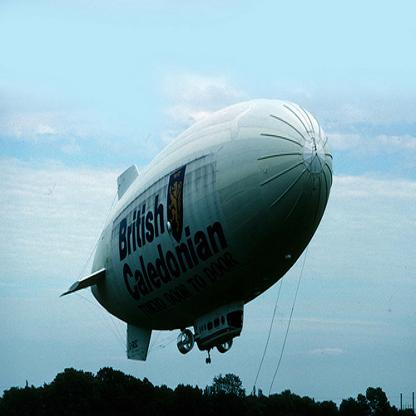Airship: (73, 97, 335, 363)
